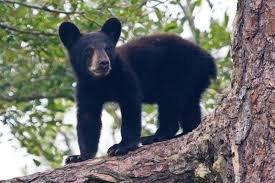bear: (59, 17, 215, 164)
